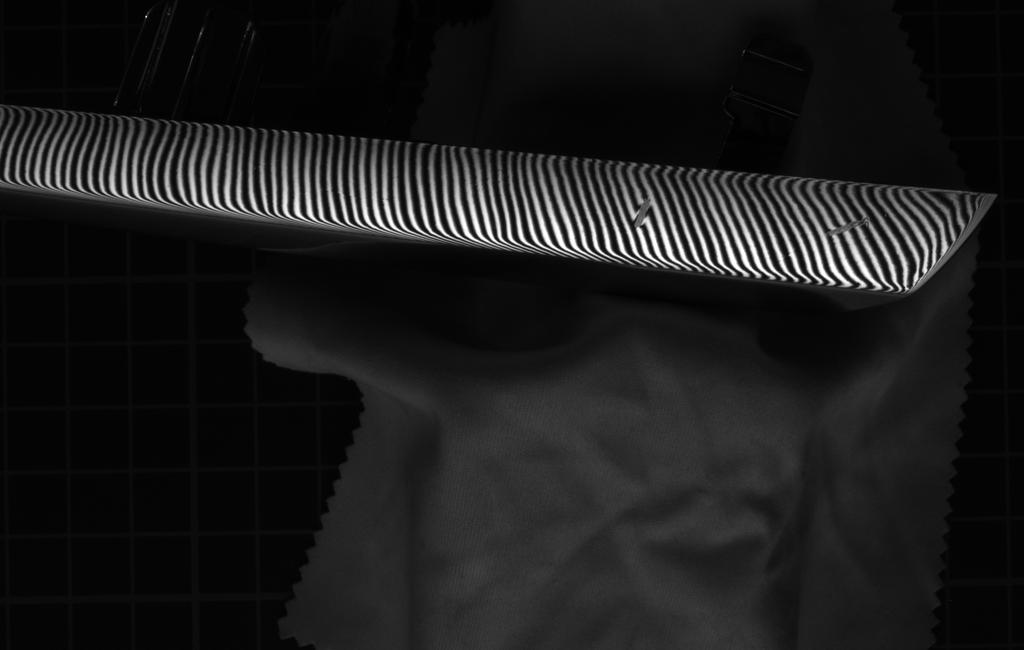Scratch: (816, 211, 878, 239), (628, 193, 654, 237)
